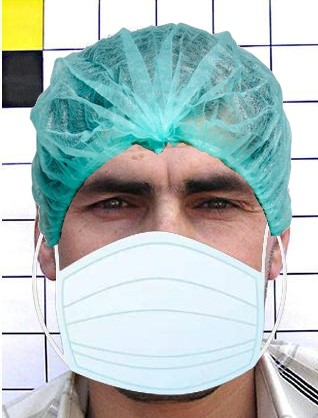with_mask_and_cap: (32, 26, 288, 400)
